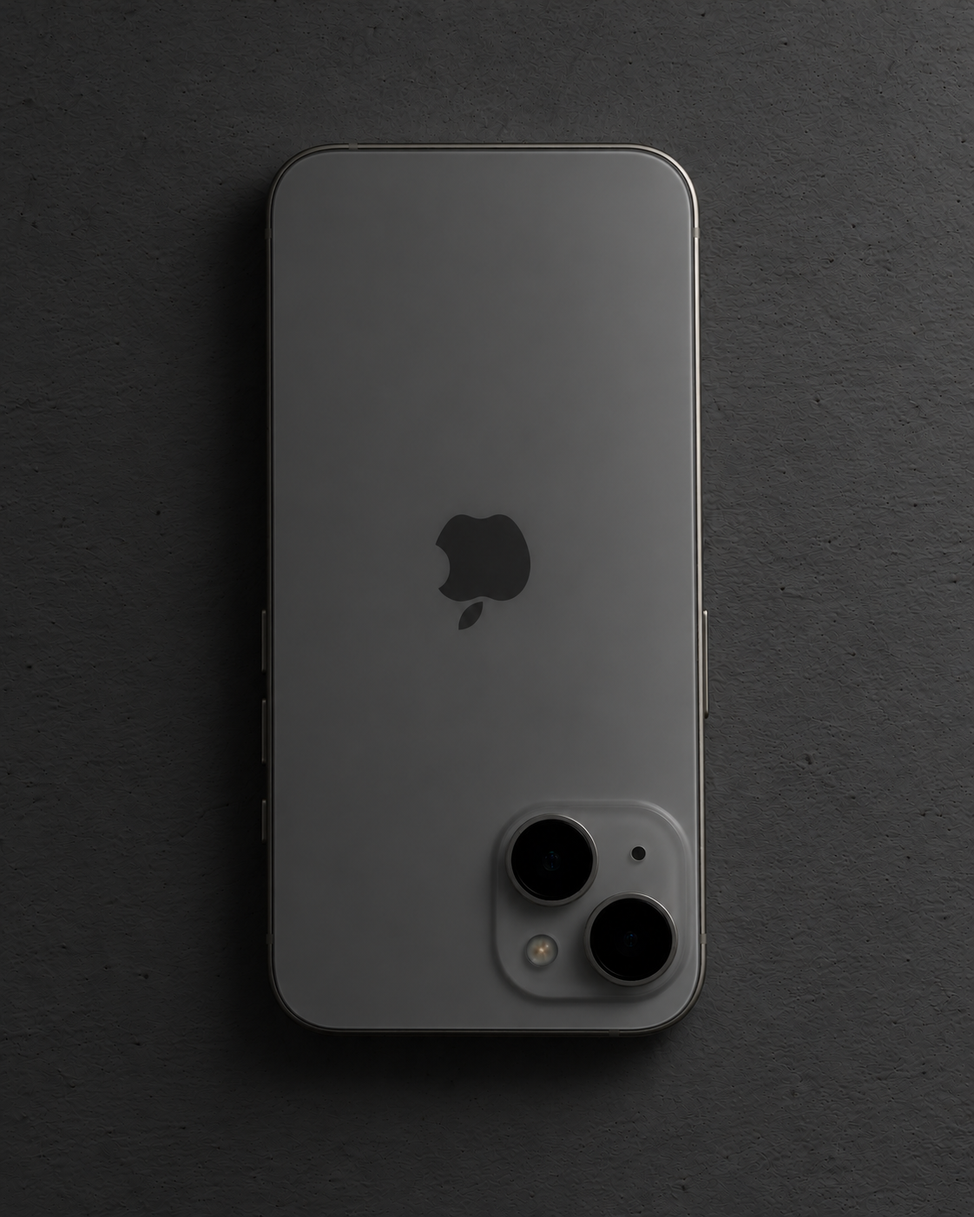iphone_14_white: (181, 96, 785, 1079), (476, 798, 703, 1014)
